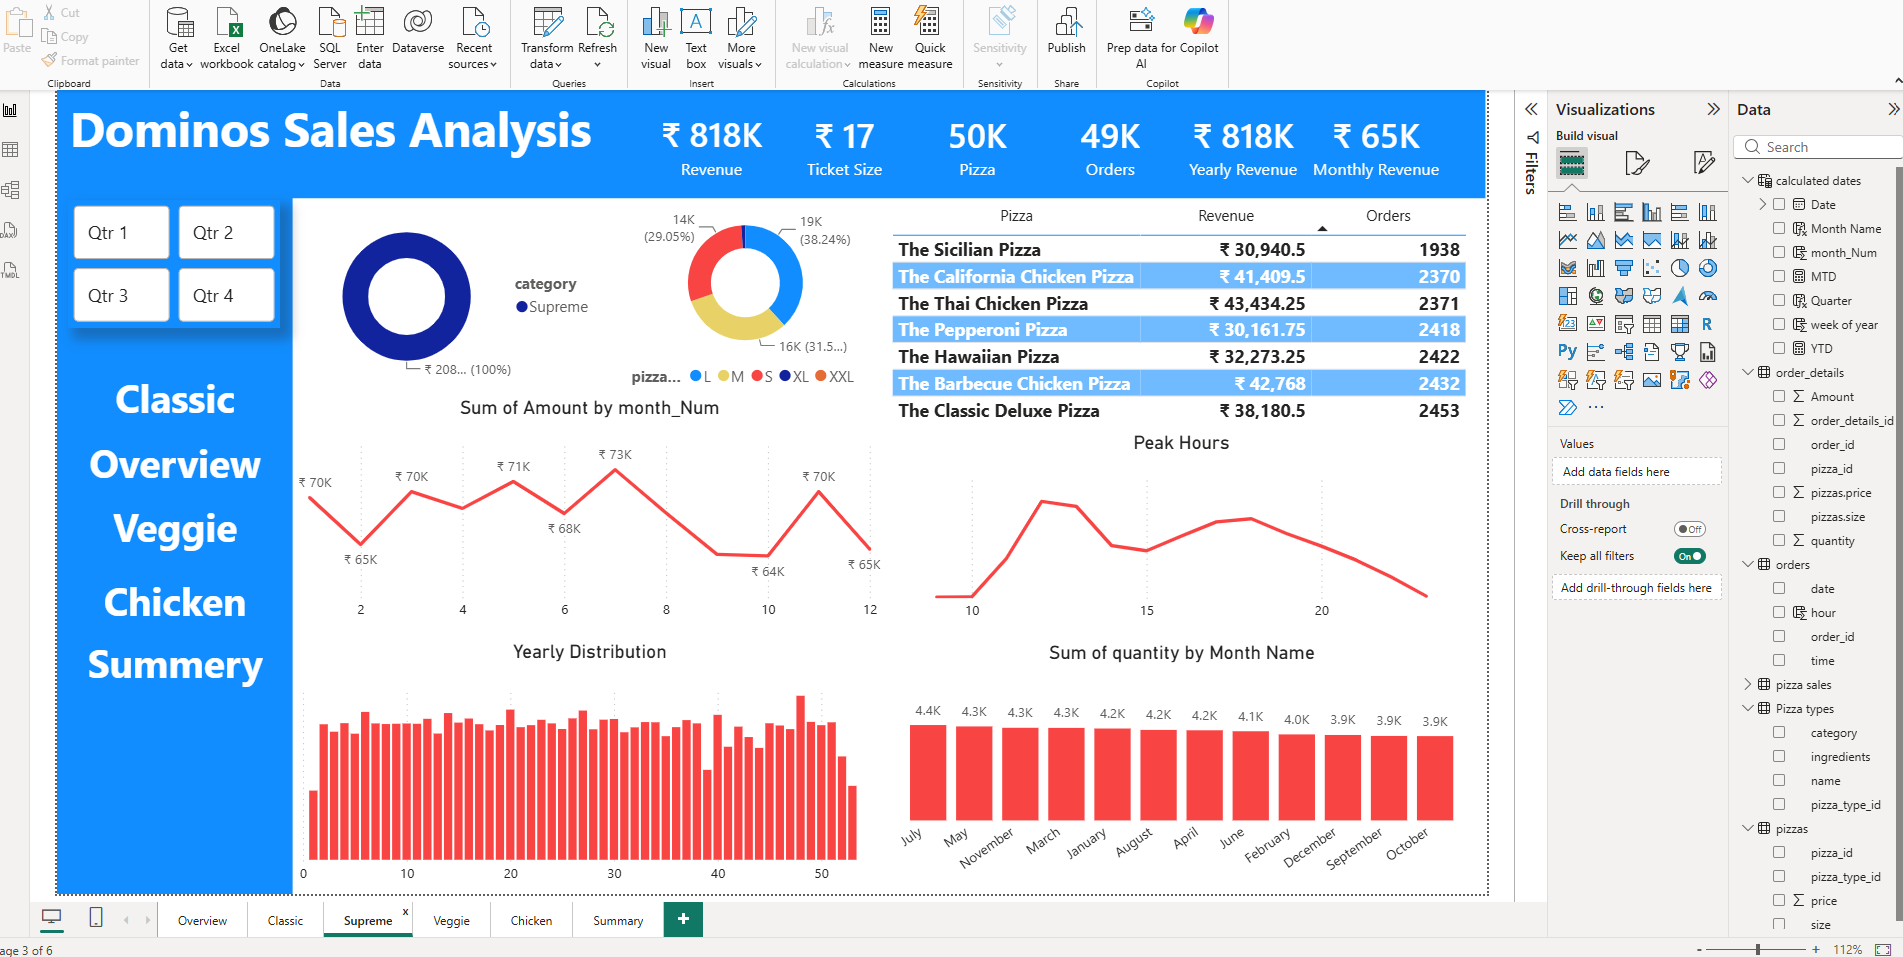

This screenshot's page, from the dashboard's own definition file:
{"tool":"powerbi","page":{"name":"Supreme","canvas":[1280,720],"ordinal":2},"visuals":[{"type":"shape","box":[0,0,211.4,720],"z":0},{"type":"shape","box":[204.6,0,1075.4,96.9],"z":1000},{"type":"textbox","box":[0,0,490,96.2],"z":2000},{"type":"cardVisual","fields":{"Data":["Sum(order_details.Amount)","Avg(order_details.Amount)","Sum(order_details.quantity)","CountNonNull(order_details.order_id)","calculated dates.YTD","calculated dates.MTD"]},"box":[490,0,790,98.6],"z":3000},{"type":"donutChart","title":"Category Wise Revenue","fields":{"Category":["Pizza types.category"],"Y":["Sum(order_details.Amount)"]},"box":[211.3,95.8,278.5,178.2],"z":4000},{"type":"advancedSlicerVisual","fields":{"Values":["calculated dates.Quarter"]},"box":[10,98.5,190,114.6],"z":5000},{"type":"columnChart","title":"Yearly Distribution","fields":{"Y":["Sum(order_details.Amount)"],"Category":["calculated dates.week of year"]},"box":[211.4,492.9,531.4,227.1],"z":6000},{"type":"lineChart","fields":{"Y":["Sum(order_details.Amount)"],"Category":["calculated dates.month_Num"]},"box":[211.4,274.3,531.4,210],"z":7000},{"type":"donutChart","fields":{"Category":["order_details.pizzas.size"],"Y":["Sum(order_details.quantity)"]},"box":[497.9,99.4,237.1,175.7],"z":8000},{"type":"tableEx","fields":{"Values":["Pizza types.name","Sum(order_details.Amount)","Sum(order_details.quantity)"]},"box":[742.4,97.6,537.3,205.1],"z":9000},{"type":"lineChart","title":"Peak Hours","fields":{"Category":["orders.hour"],"Y":["CountNonNull(order_details.order_details_id)"]},"box":[741.5,305.4,531,179.1],"z":10000},{"type":"columnChart","fields":{"Category":["calculated dates.Month Name"],"Y":["Sum(order_details.quantity)"]},"box":[742,493,530,227],"z":11000},{"type":"actionButton","box":[21.4,247.1,168.6,55.7],"z":12000},{"type":"actionButton","box":[21.4,305.7,168.6,55.7],"z":13000},{"type":"actionButton","box":[21.4,362.9,168.6,55.7],"z":14000},{"type":"actionButton","box":[21.1,428.9,168.6,55.7],"z":15000},{"type":"actionButton","box":[21.4,484.3,168.6,55.7],"z":16000}]}

Visuals, with their boxes on the page's 1280x720 design canvas (x1, y1, x2, y2). These are canvas units, not pixel positions in the 1903x957 screenshot, which may show the page scaled, cropped or inside an application window:
shape: [0,0,211,720]
shape: [205,0,1280,97]
textbox: [0,0,490,96]
cardVisual - Sum(order_details.Amount) x Avg(order_details.Amount): [490,0,1280,99]
"Category Wise Revenue" donutChart: [211,96,490,274]
advancedSlicerVisual - calculated dates.Quarter: [10,98,200,213]
"Yearly Distribution" columnChart: [211,493,743,720]
lineChart - Sum(order_details.Amount) x calculated dates.month_Num: [211,274,743,484]
donutChart - order_details.pizzas.size x Sum(order_details.quantity): [498,99,735,275]
tableEx - Pizza types.name x Sum(order_details.Amount): [742,98,1280,303]
"Peak Hours" lineChart: [742,305,1272,484]
columnChart - calculated dates.Month Name x Sum(order_details.quantity): [742,493,1272,720]
actionButton: [21,247,190,303]
actionButton: [21,306,190,361]
actionButton: [21,363,190,419]
actionButton: [21,429,190,485]
actionButton: [21,484,190,540]
